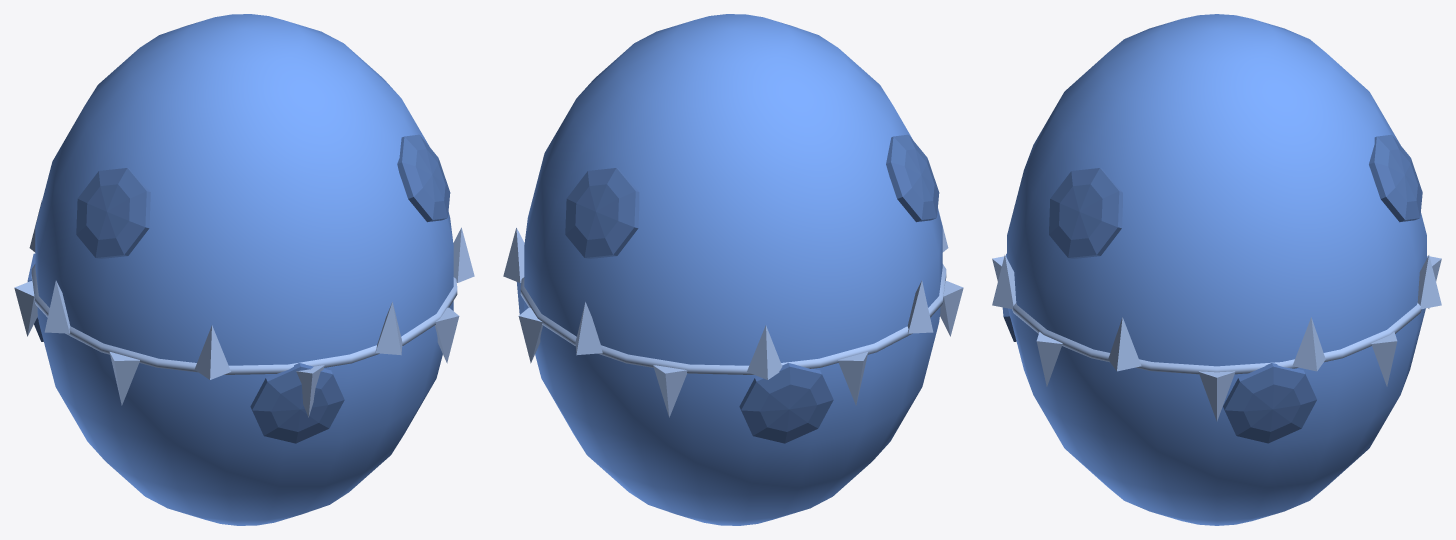
The model's file is Ovo_RareEgg.fbx.
3 renders of one model, left to right at view 1: azimuth 30°, elevation 25°; view 2: azimuth 150°, elevation 25°; view 3: azimuth 270°, elevation 25°, orthographic.
Parts seen in each view (by area): view 1: Casca_RareEgg; view 2: Casca_RareEgg; view 3: Casca_RareEgg.
Boxes of the visible parts, left/top/right/bottom form: Casca_RareEgg: left=14, top=14, right=474, bottom=525; Casca_RareEgg: left=503, top=14, right=963, bottom=525; Casca_RareEgg: left=992, top=14, right=1441, bottom=525.
Bounding box in the file's own units: 1.74 × 2 × 1.7.
1 material, 1 textured.
